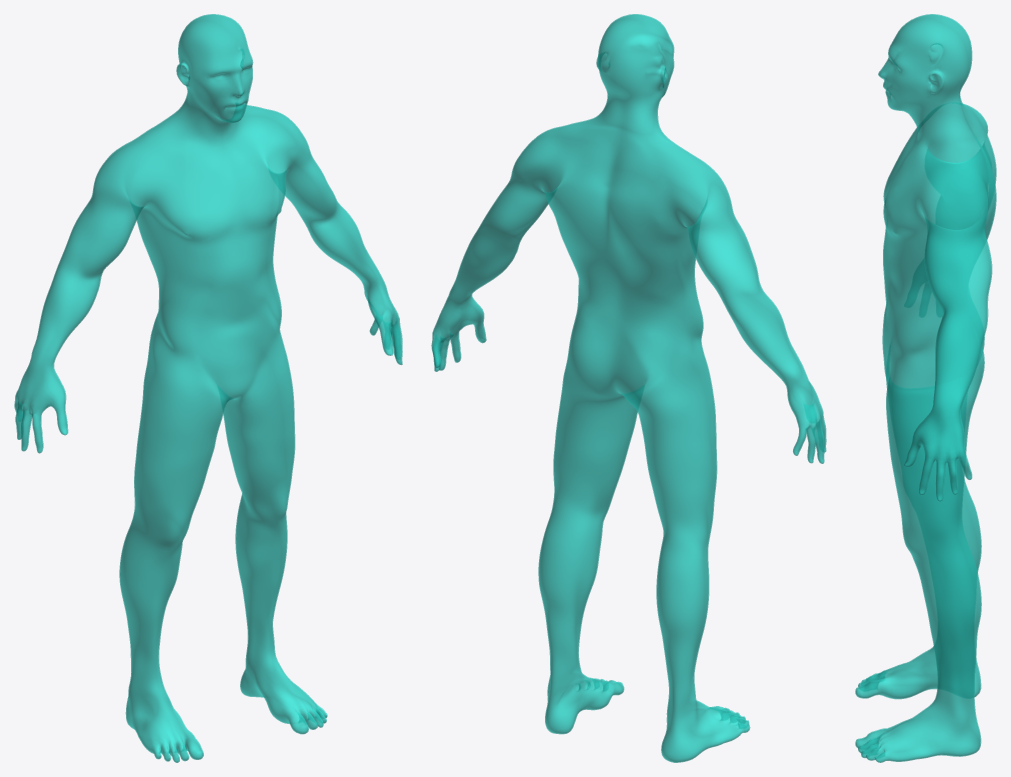
Rendered from HumanSolid.glb.
The picture shows the model from 3 angles, left to right: view 1: azimuth 30°, elevation 25°; view 2: azimuth 150°, elevation 25°; view 3: azimuth 270°, elevation 25°; orthographic projection.
Visible parts, largest first — view 1: FinalBaseMesh; view 2: FinalBaseMesh; view 3: FinalBaseMesh.
Boxes of the visible parts, <box> form: FinalBaseMesh: <box>14,14,402,762</box>; FinalBaseMesh: <box>431,14,826,762</box>; FinalBaseMesh: <box>855,14,996,762</box>.
Bounding box in the file's own units: 1.28 × 2.27 × 0.4112.
